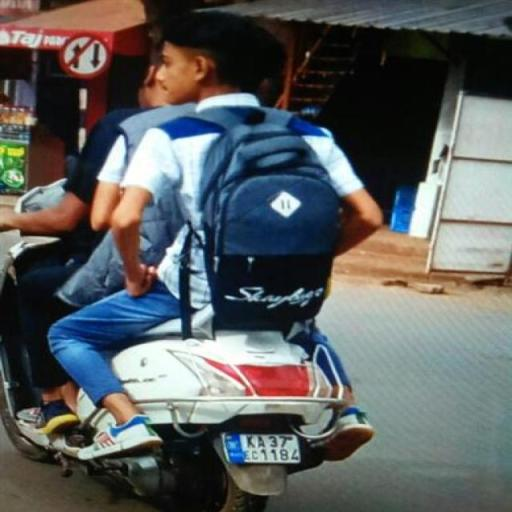tripple riding: (0, 14, 426, 381)
